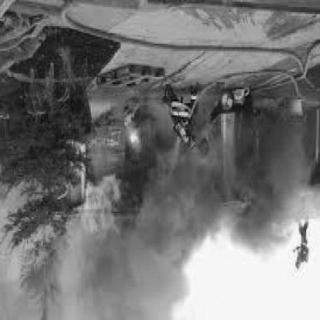Fire: (75, 172, 123, 246), (120, 113, 143, 160)
Smoke: (17, 186, 299, 316), (257, 135, 297, 179)
